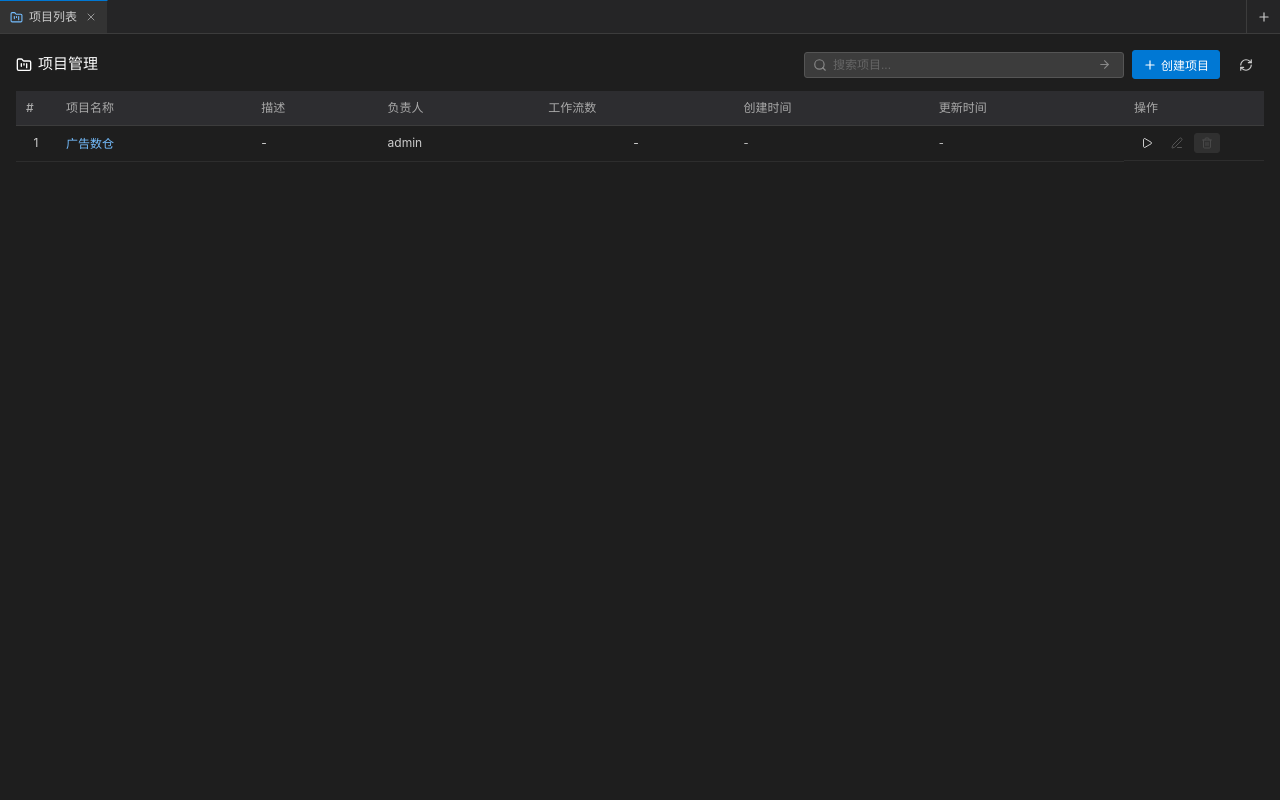
Test: 「定时」入口的角色门禁 › 运维工程师：按钮可用，点击打开定时弹窗
Click the button "广告数仓". click: point(90, 142)
box: [66,134,114,151]
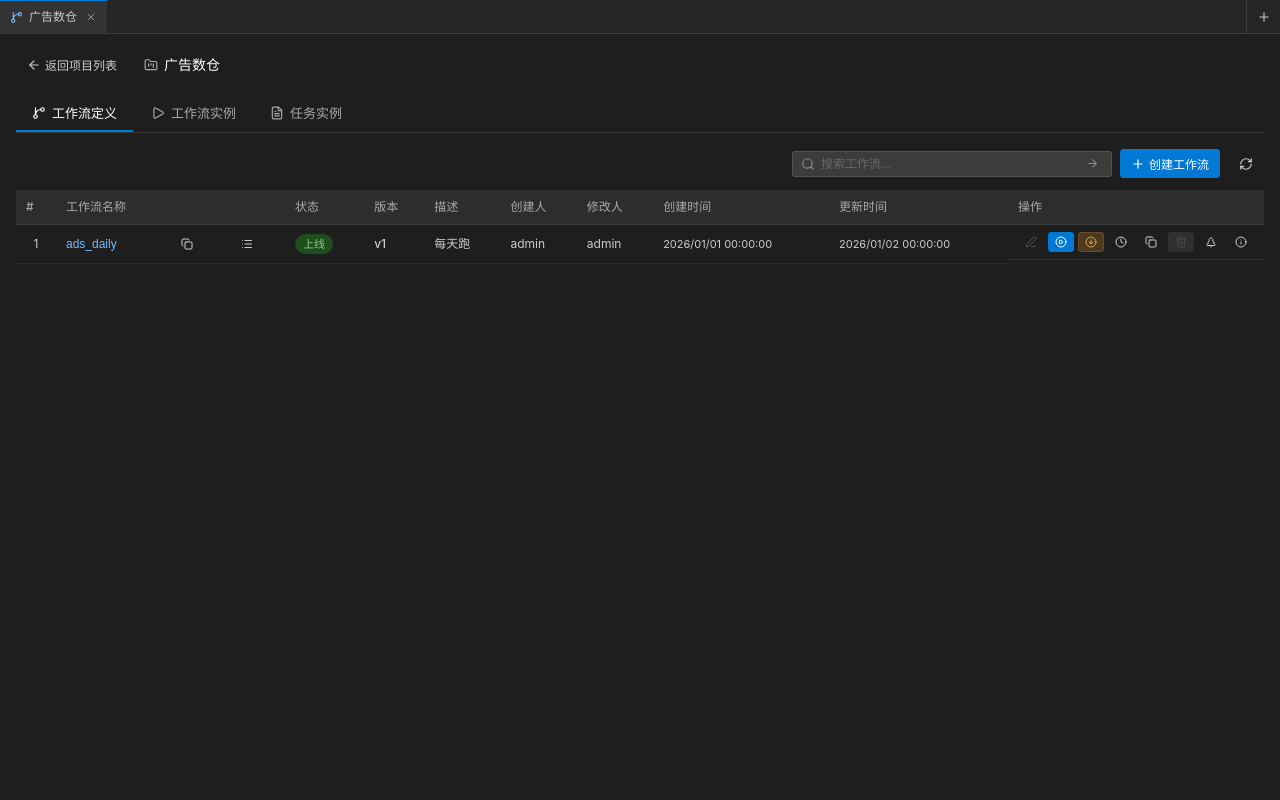
Now the button "ads_daily" is shown, box [66,237,117,251]
Click the button titled "定时". click: point(1121, 242)
box: [1108,232,1134,252]
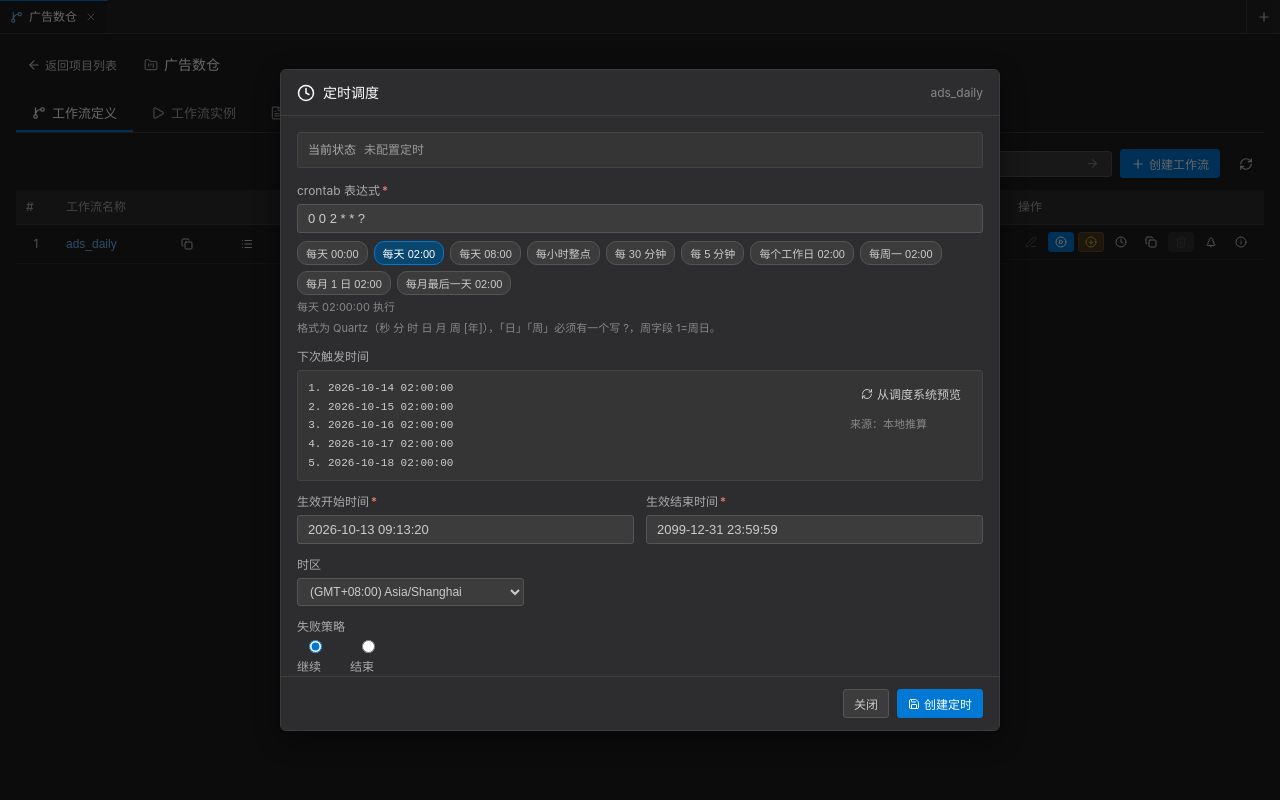
Now the text "定时调度" is shown, box [323,82,379,103]
